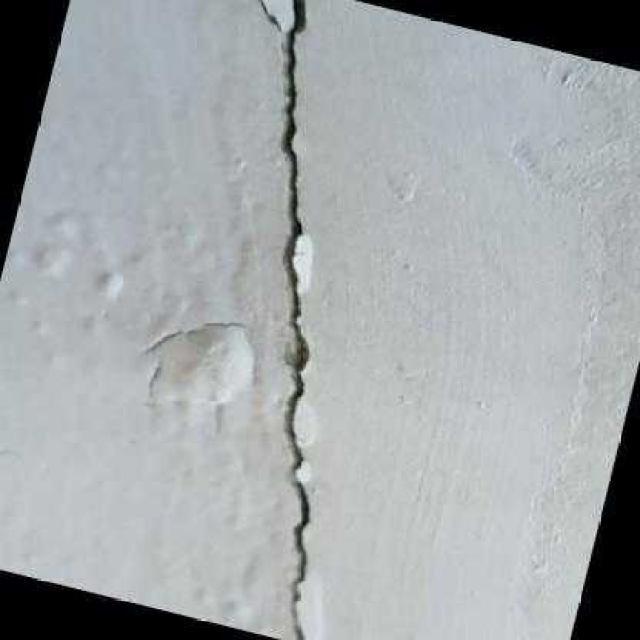D00: (249, 0, 317, 640)
